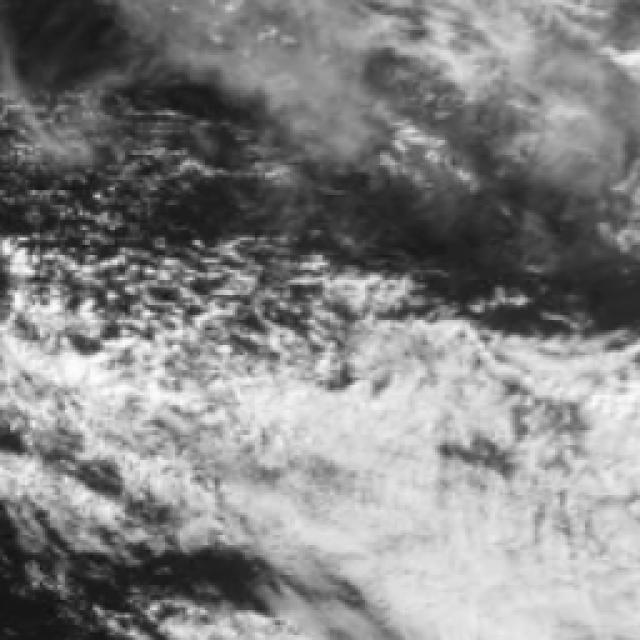CB: (438, 506, 640, 640), (318, 399, 443, 559)
